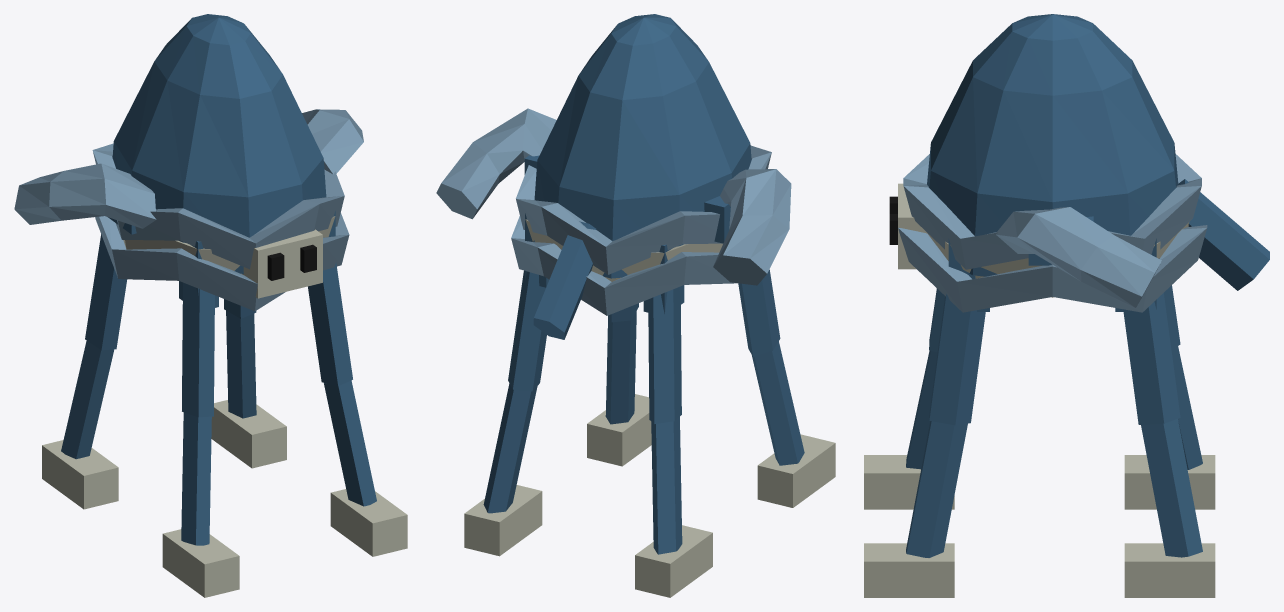
Rendered from chimeford.glb.
3 renders of one model, left to right at view 1: azimuth 30°, elevation 25°; view 2: azimuth 150°, elevation 25°; view 3: azimuth 270°, elevation 25°, orthographic. The views are drawn at different scales.
Visible parts, largest first — view 1: Chimeford; view 2: Chimeford; view 3: Chimeford.
Boxes of the visible parts, left/top/right/bottom form: Chimeford: left=14, top=14, right=407, bottom=597; Chimeford: left=436, top=14, right=835, bottom=597; Chimeford: left=864, top=14, right=1269, bottom=597.
Size of the model in its own units: 0.68 by 0.98 by 0.68.
